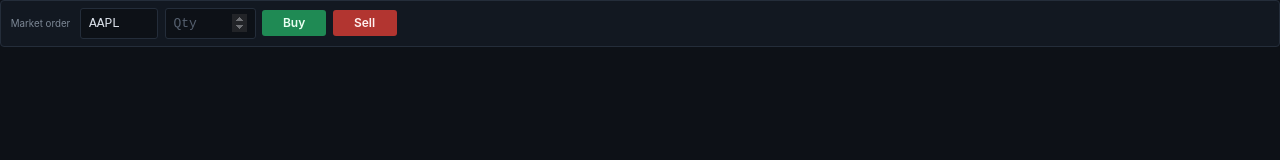
TradeBar › rejects a zero quantity locally
This screenshot has width=1280, height=160.
Type "0" into the number field with test id "trade-quantity-input" at [210, 23], box [164,8,256,39]
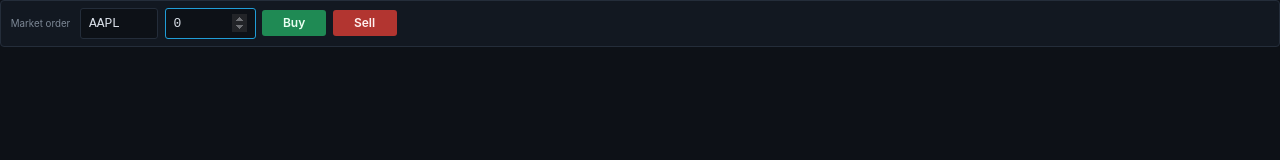
Click the button with test id "trade-buy-button" at [294, 23], box [262,10,326,36]
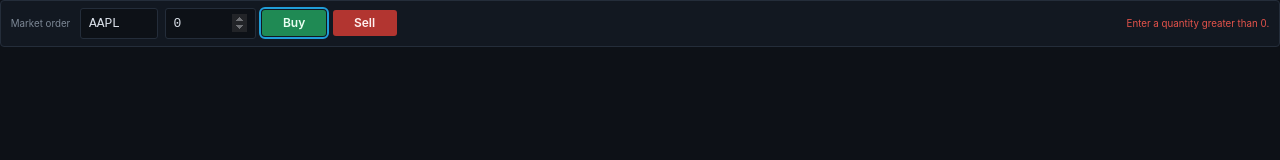
Now the message with test id "trade-error" shows "greater than 0", box [1126,18,1269,29]
